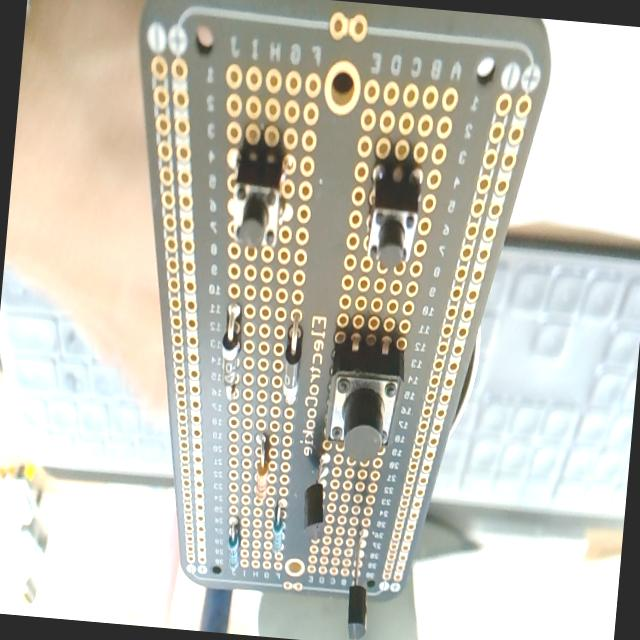diode: (217, 294, 253, 410), (279, 302, 308, 414)
resistor: (249, 428, 278, 511), (268, 497, 292, 568), (221, 514, 246, 580)
switch: (324, 338, 406, 465), (354, 157, 432, 276)
transistor: (342, 519, 379, 640), (296, 452, 332, 548)
